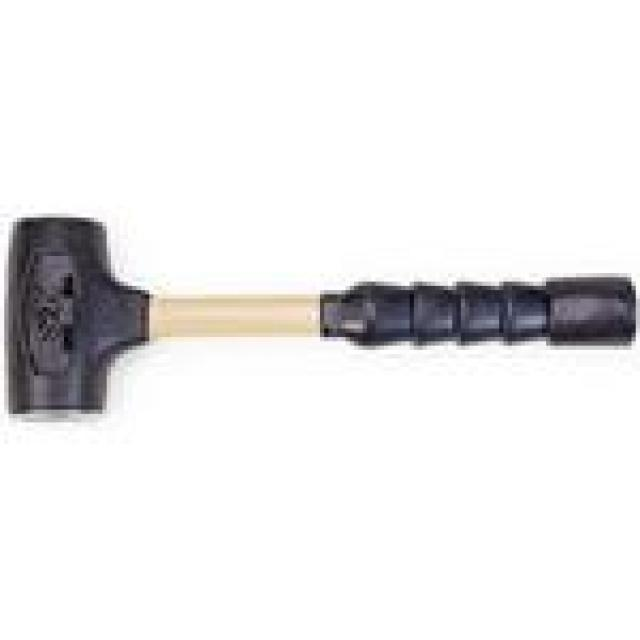hammer: (0, 199, 640, 438)
